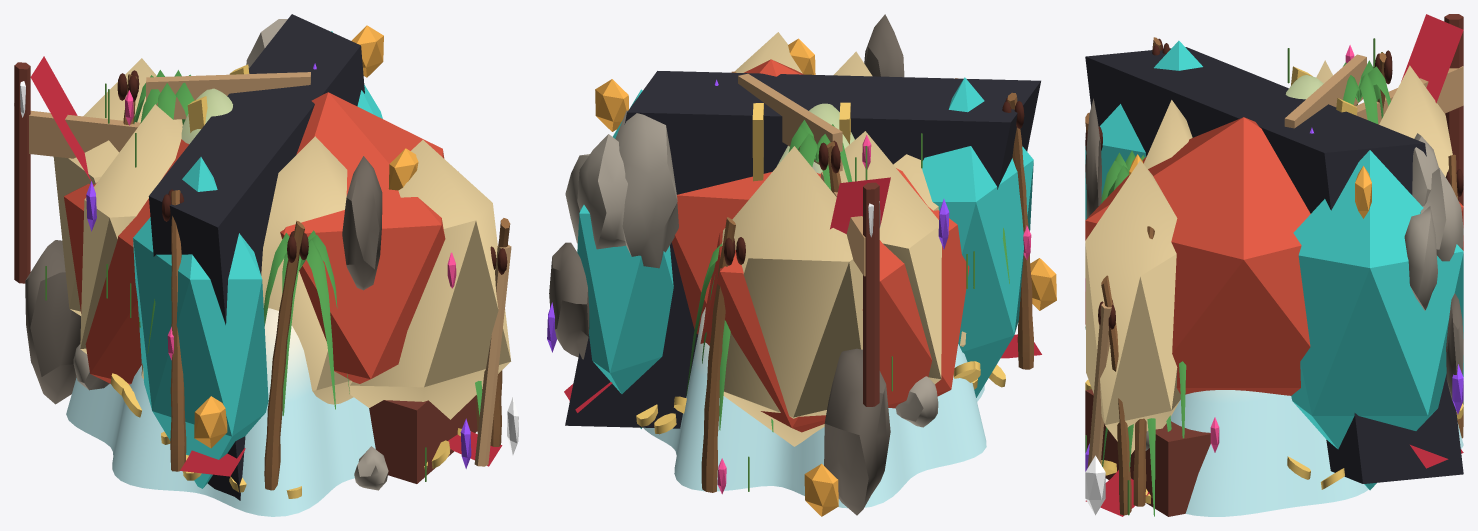
The model's file is ile-tresor.glb.
3 views of the same model, side by side, from view 1: azimuth 30°, elevation 25°; view 2: azimuth 150°, elevation 25°; view 3: azimuth 270°, elevation 25° (orthographic).
Visible parts, largest first — view 1: tresor_decor, tresor_terrain; view 2: tresor_decor, tresor_terrain; view 3: tresor_decor, tresor_terrain.
Boxes of the visible parts, bbox=[...] form: tresor_decor: bbox=[14, 14, 518, 500]; tresor_terrain: bbox=[66, 88, 375, 516]; tresor_decor: bbox=[547, 14, 1056, 516]; tresor_terrain: bbox=[643, 103, 986, 508]; tresor_decor: bbox=[1085, 14, 1463, 516]; tresor_terrain: bbox=[1170, 75, 1463, 516].
Bounding box in the file's own units: 2 × 2 × 2.
